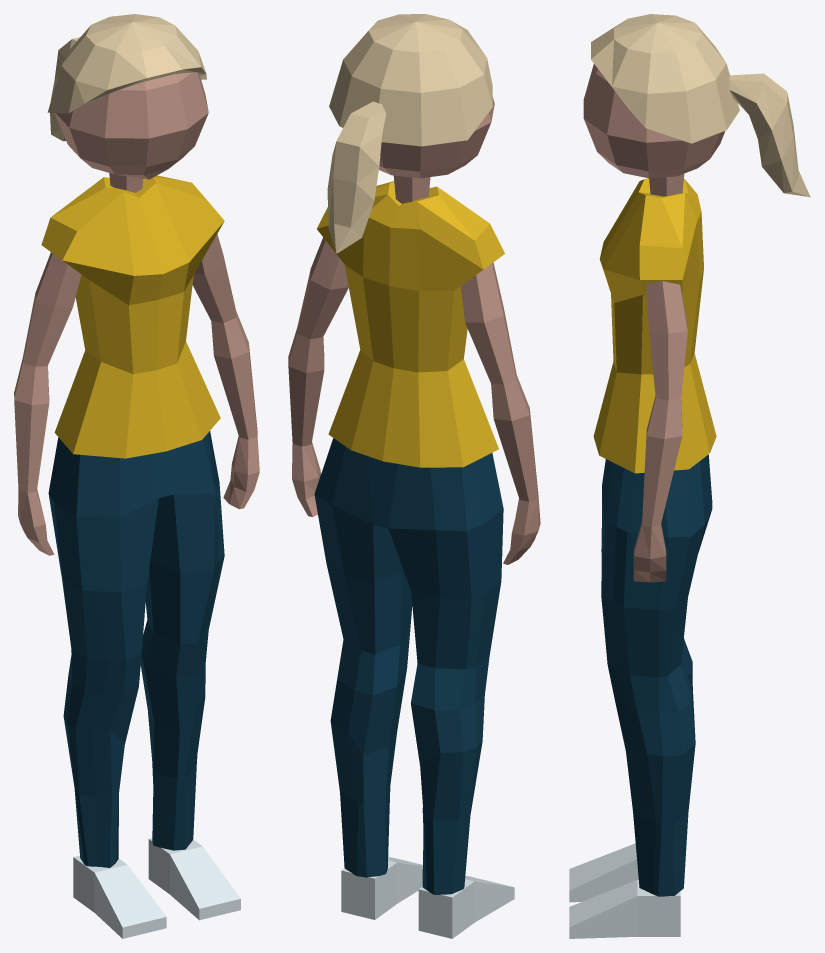
The model's file is Person3.FBX.
3 renders of one model, left to right at view 1: azimuth 30°, elevation 25°; view 2: azimuth 150°, elevation 25°; view 3: azimuth 270°, elevation 25°, orthographic. The views are drawn at different scales.
Visible parts, largest first — view 1: Box014, Box015, Sphere007, Sphere008, Cylinder010, Cylinder012, Box013, Box016, Cylinder013; view 2: Box014, Box015, Sphere008, Cylinder010, Cylinder012, Cylinder013, Box013, Sphere007, Box016, Cylinder011; view 3: Box014, Box015, Sphere008, Cylinder012, Sphere007, Box016, Cylinder013, Box013, Cylinder011.
Part boxes in pixels (x1,y1,x2,y2): Box014: (48, 431, 224, 867); Box015: (41, 175, 224, 458); Sphere007: (54, 72, 208, 179); Sphere008: (47, 14, 206, 113); Cylinder010: (14, 252, 81, 555); Cylinder012: (192, 234, 259, 509); Box013: (73, 855, 166, 938); Box016: (148, 838, 240, 920); Cylinder013: (50, 37, 79, 141); Box014: (314, 438, 503, 894); Box015: (317, 181, 504, 467); Sphere008: (329, 14, 492, 146); Cylinder010: (461, 251, 540, 564); Cylinder012: (288, 237, 348, 516); Cylinder013: (327, 101, 386, 253); Box013: (418, 876, 514, 938); Sphere007: (379, 97, 494, 178); Box016: (341, 857, 422, 919); Cylinder011: (393, 175, 430, 203); Box014: (601, 454, 712, 896); Box015: (593, 178, 716, 473); Sphere008: (591, 14, 739, 143); Cylinder012: (633, 281, 687, 582); Sphere007: (583, 64, 725, 178); Box016: (569, 879, 680, 938); Cylinder013: (729, 73, 810, 196); Box013: (569, 843, 638, 902); Cylinder011: (649, 174, 684, 196).
Bounding box in the file's own units: 1.05 × 0.9035 × 3.65.
